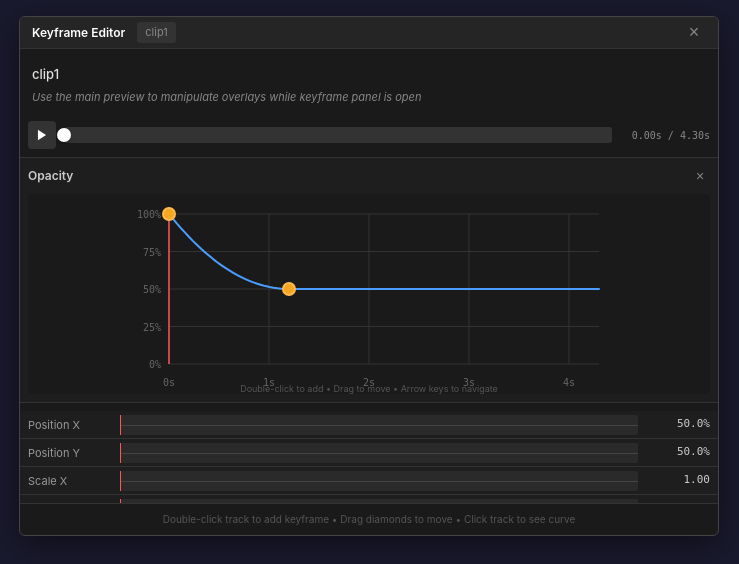
KeyframePanel › adding where a keyframe already is (ESCSUITE-248) › selects it on a graph double-click at that time
Step 1. Double-click the list → (369, 294), box [28,194,710,394]
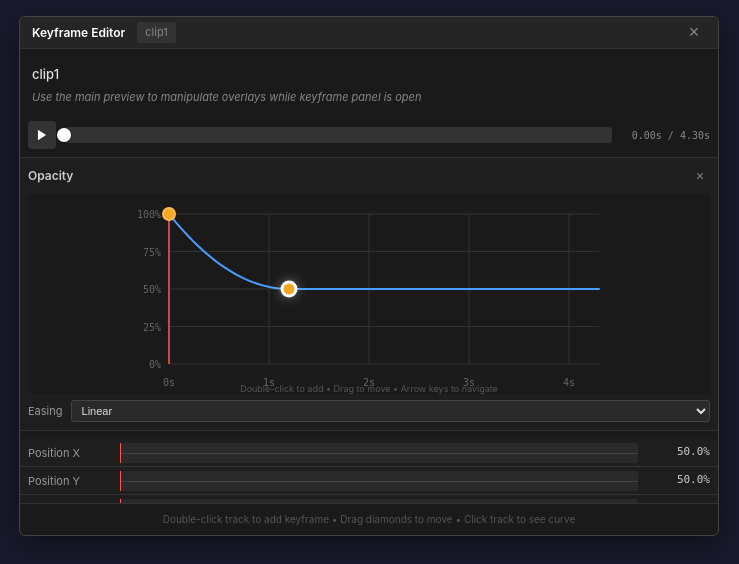
Now the dropdown named "Keyframe easing" shows "Linear", box [70,400,710,422]
